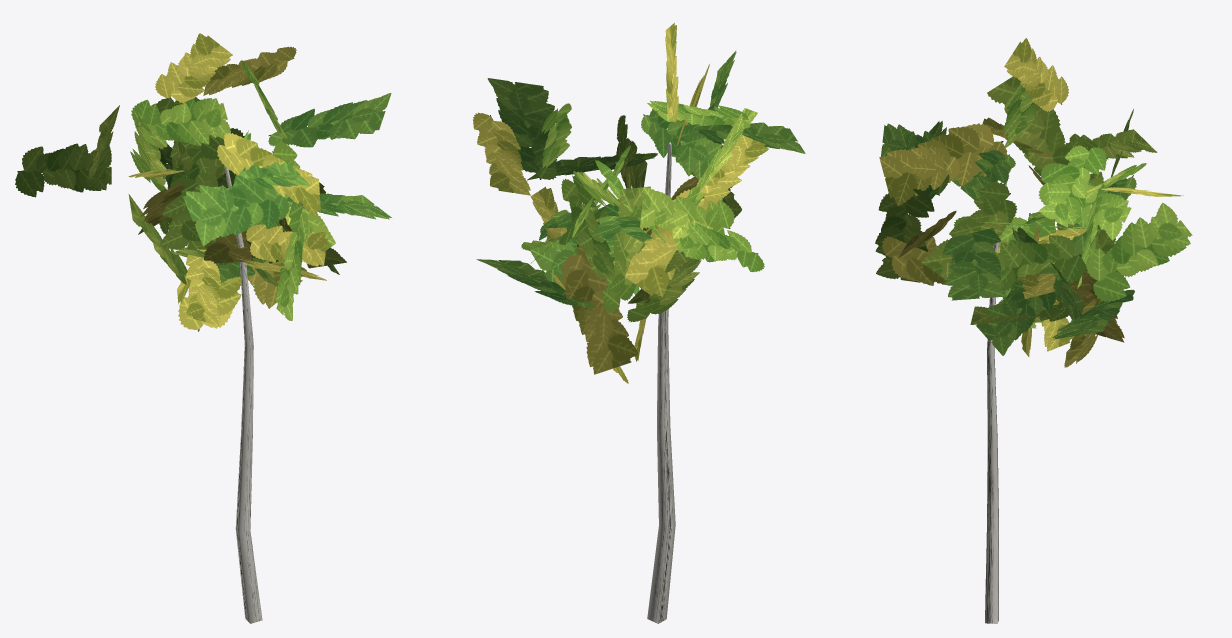
The model's file is hero_birch_b_lod2.obj.
3 renders of one model, left to right at view 1: azimuth 30°, elevation 25°; view 2: azimuth 150°, elevation 25°; view 3: azimuth 270°, elevation 25°, orthographic. The views are drawn at different scales.
Visible parts, largest first — view 1: hero_birch_b_lod2; view 2: hero_birch_b_lod2; view 3: hero_birch_b_lod2.
Part boxes in pixels (box(x1,y1,x2,y2)): hero_birch_b_lod2: box(15, 33, 391, 623); hero_birch_b_lod2: box(473, 22, 805, 623); hero_birch_b_lod2: box(875, 38, 1192, 623).
Size of the model in its own units: 9.48 by 15.63 by 9.03.
2 materials, 2 textured.
